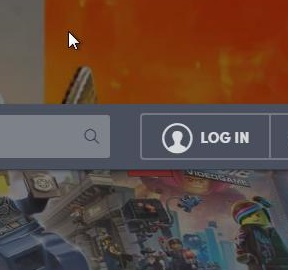cursor: (66, 29, 81, 51)
